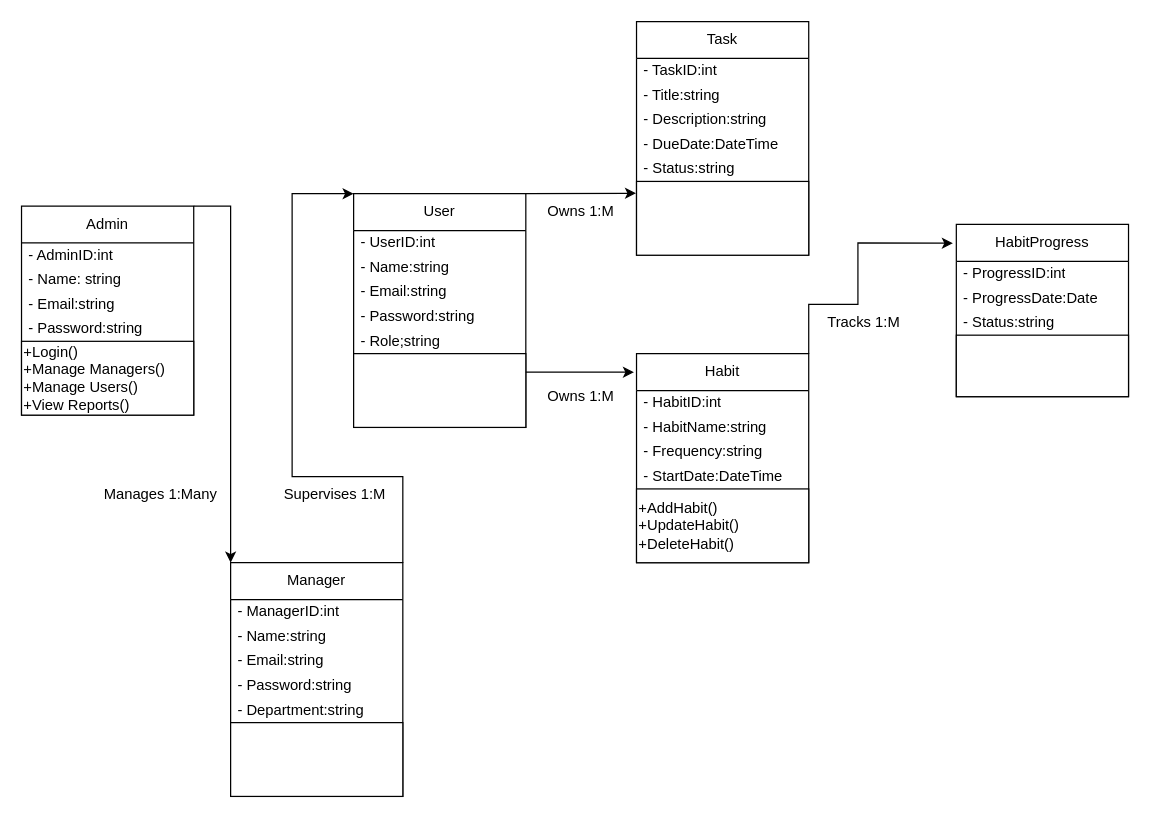
Image size: 1150x818. Some labels were removed from this diagram. The box of each missing label's shape, as (x1, y1, x2, y2) in pixels:
+AddTask() +UpdateTask() +DeleteTask(): (635, 180, 809, 255)
+Login() +ViewUsers() +MonitorTasks() +GenerateReports(): (229, 721, 403, 796)
+MarkDone() +ViewProgress(): (955, 334, 1129, 397)
+Register() +Login() +Dashboard(): (352, 352, 526, 427)
